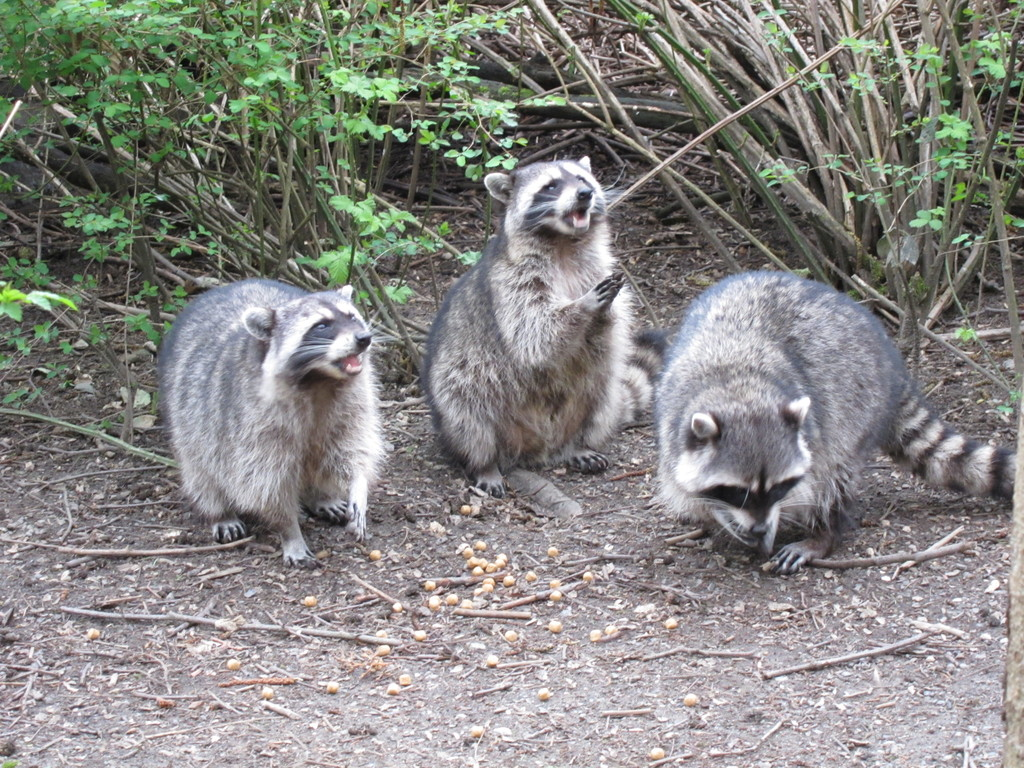raccoon: (659, 274, 1016, 572), (431, 153, 667, 489), (157, 281, 393, 563)
